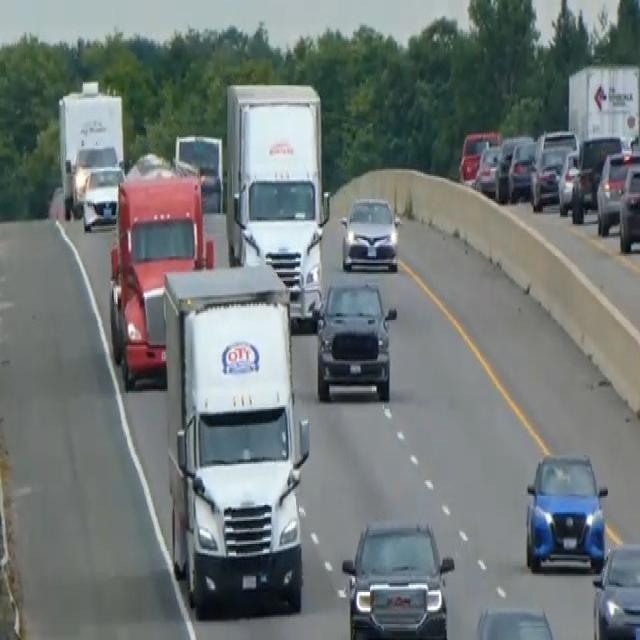car: (340, 514, 454, 638), (524, 450, 608, 572), (591, 540, 639, 638), (340, 194, 400, 272), (571, 132, 623, 218), (529, 128, 579, 212), (172, 132, 223, 214), (595, 148, 639, 235), (69, 141, 118, 215), (471, 604, 560, 638), (81, 164, 125, 231), (458, 128, 499, 185), (618, 162, 639, 252), (507, 139, 537, 201), (556, 148, 581, 215), (124, 150, 173, 182), (473, 142, 501, 196)
jeep: (310, 279, 398, 402)
lorry: (161, 260, 310, 614), (108, 171, 213, 389)
